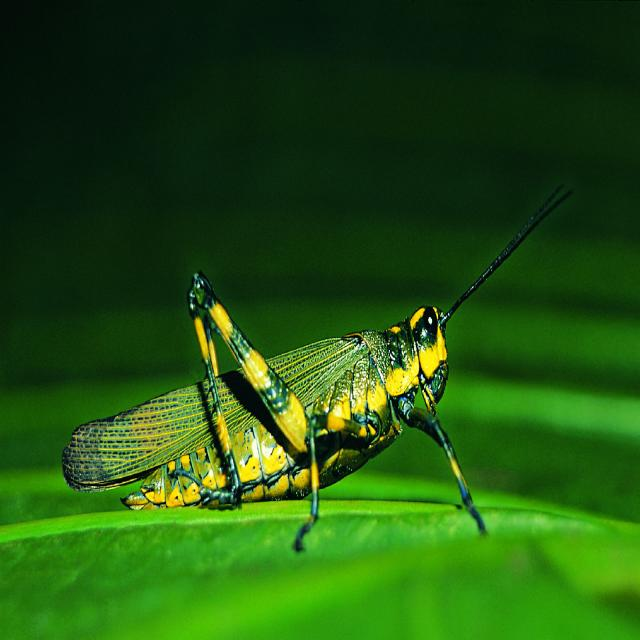ZhaMeng: (62, 177, 576, 550)
